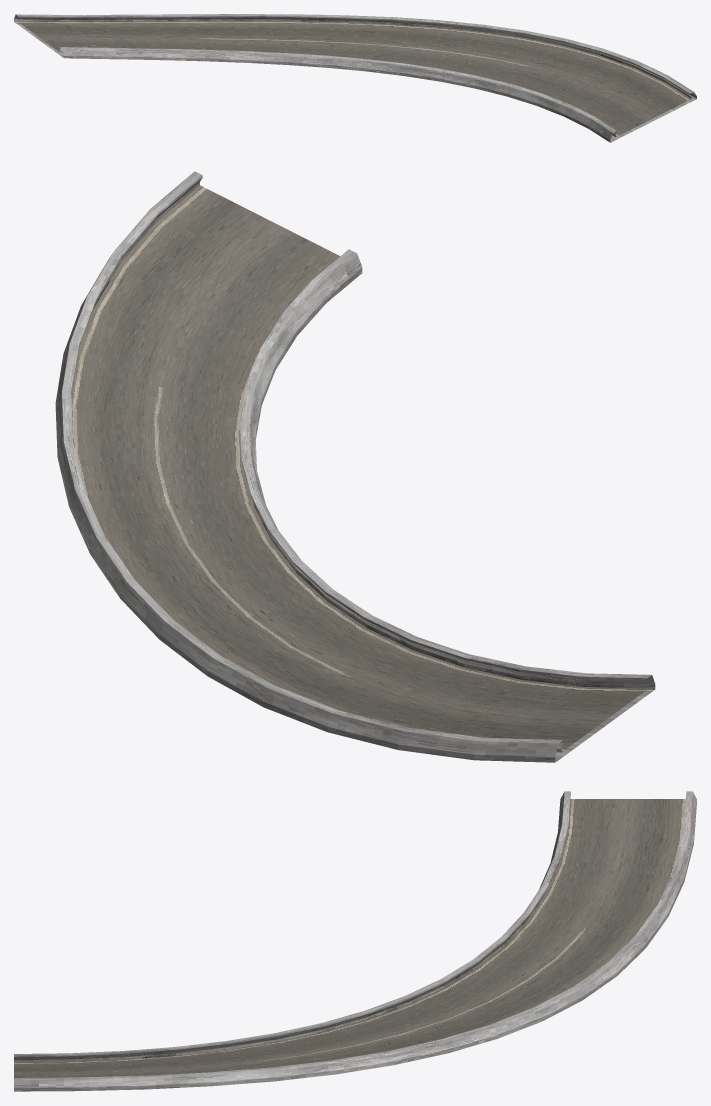
Rendered from road-Turn-HalfBankedLeft-BiSlopeUp-Up1-Left-Size5.glb.
3 views of the same model, one above another, from view 1: azimuth 30°, elevation 25°; view 2: azimuth 150°, elevation 25°; view 3: azimuth 270°, elevation 25° (orthographic). The views are drawn at different scales.
Visible parts, largest first — view 1: road-Turn-HalfBankedLeft-BiSlopeUp-Up1-Left-Size5; view 2: road-Turn-HalfBankedLeft-BiSlopeUp-Up1-Left-Size5; view 3: road-Turn-HalfBankedLeft-BiSlopeUp-Up1-Left-Size5.
Part boxes in pixels (box(x1,y1,x2,y2)): road-Turn-HalfBankedLeft-BiSlopeUp-Up1-Left-Size5: box(14, 14, 696, 142); road-Turn-HalfBankedLeft-BiSlopeUp-Up1-Left-Size5: box(55, 171, 655, 762); road-Turn-HalfBankedLeft-BiSlopeUp-Up1-Left-Size5: box(14, 791, 696, 1091).
Bounding box in the file's own units: 5 × 0.4259 × 5.
Materials: 2 (2 with a texture image).
